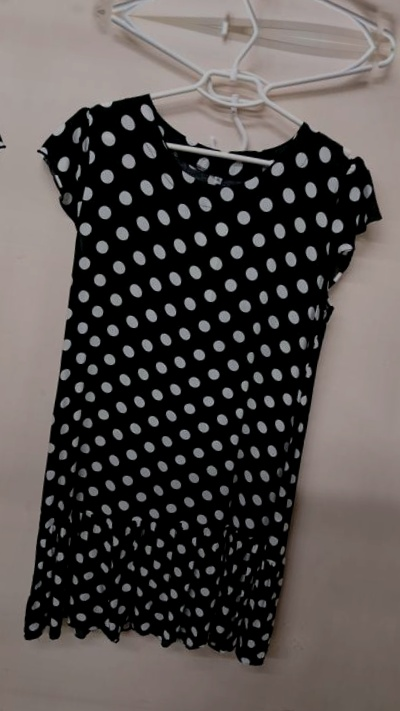Dress: (0, 57, 387, 685), (0, 11, 32, 638), (400, 114, 400, 711)
